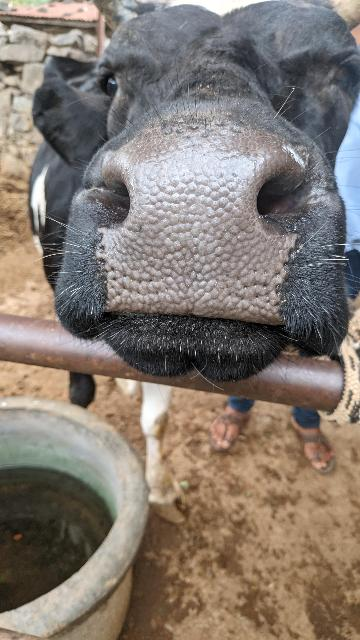Muzzle: (101, 143, 299, 323)
